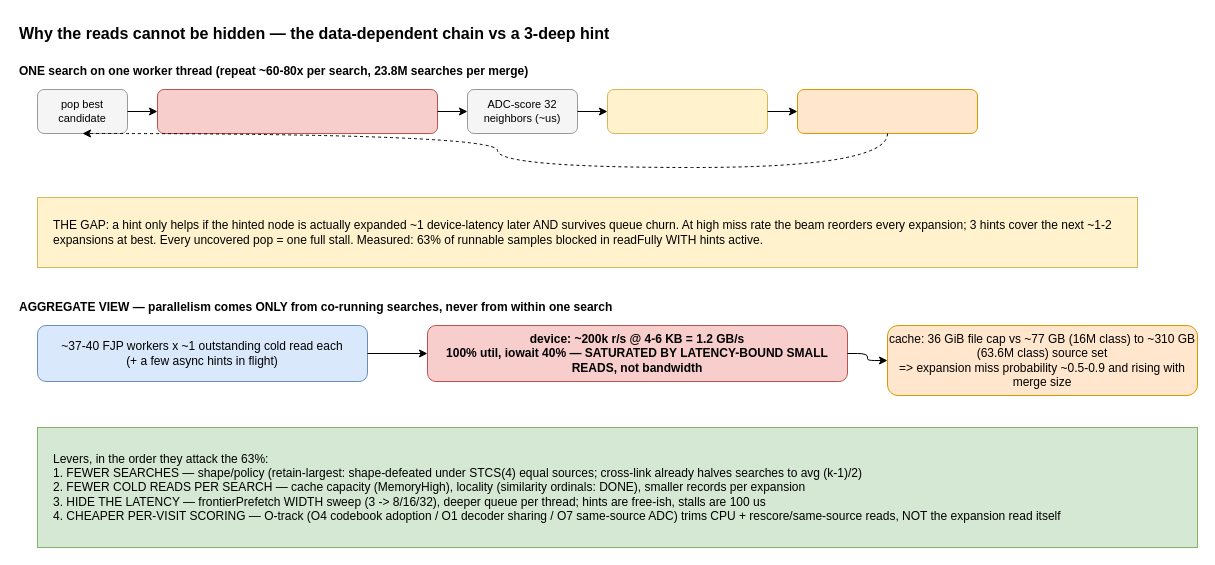
The diagram is 1215 pixels wide and 565 high, and some of its shapes have lost their labels. The box of each missing label's shape, as (x1, y1, x2, y2) in pixels:
hint top-3 of shadow queue (WIDTH=3 fadvise, async): (796, 88, 978, 134)
push into queue; NEXT TARGET NOW KNOWN (not before): (606, 88, 768, 134)
readFully: packed row of THAT node ~100 us cold device read — THREAD BLOCKED: (156, 88, 438, 134)
